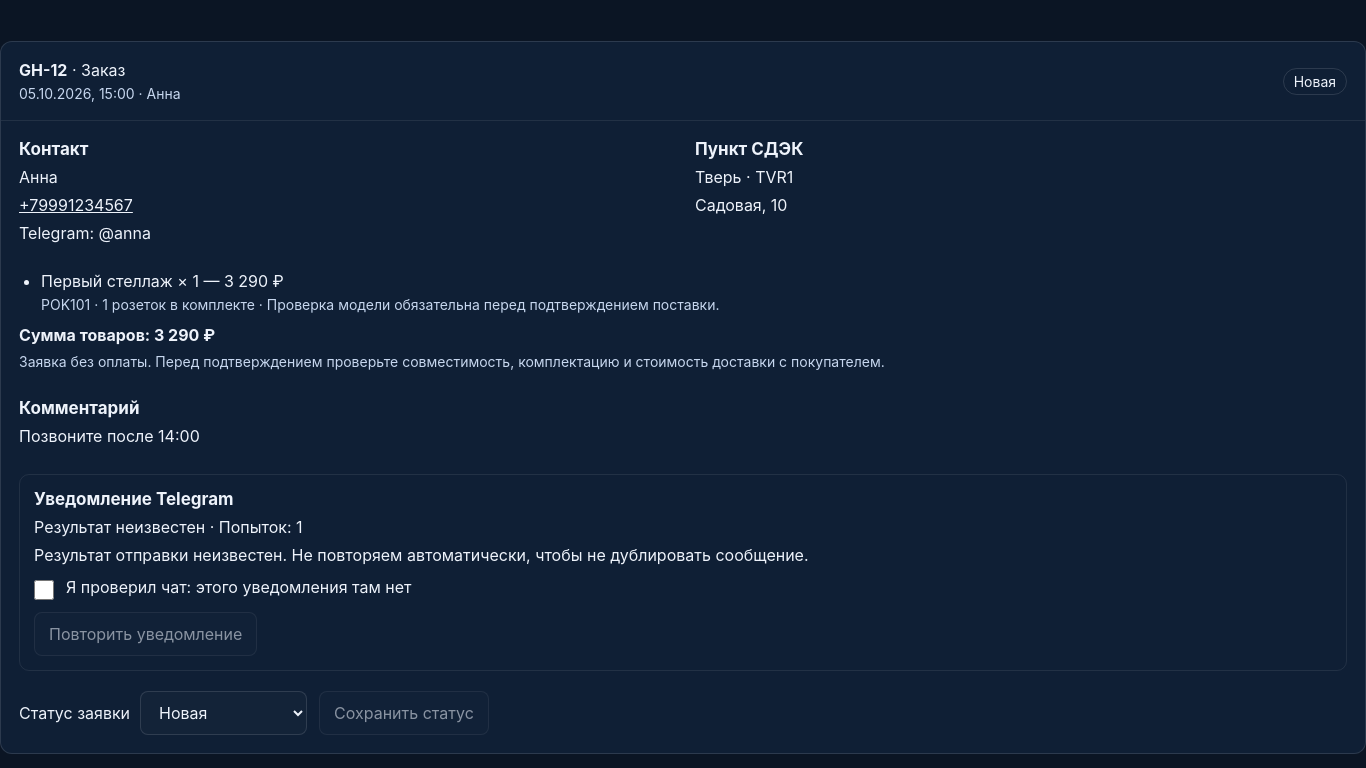
Scenario: Admin shop requests › raskryvaet zajavku iz Telegram i ne predlagaet slepoj povtor uncertain-uvedomleniya
The width and height of the screenshot is (1366, 768).
(page scrolled)
Check: the text "GH-12" is shown, box [19, 60, 67, 80]
Check: the button "Повторить уведомление" is disabled, box [34, 612, 257, 656]
Select "В работе" in the dropdown labelled "Статус заявки" at (224, 713), box [140, 691, 307, 735]
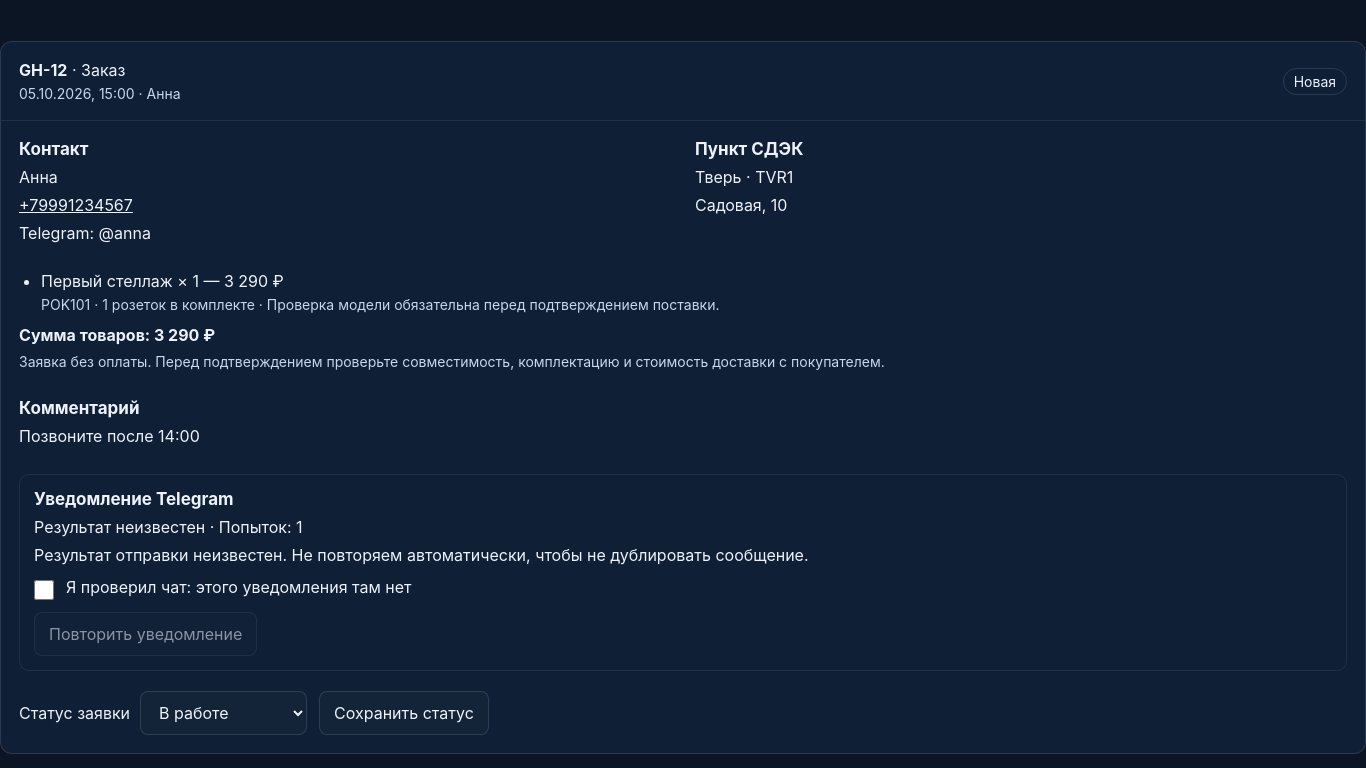
Click the button "Сохранить статус" at (404, 713), box [319, 691, 489, 735]
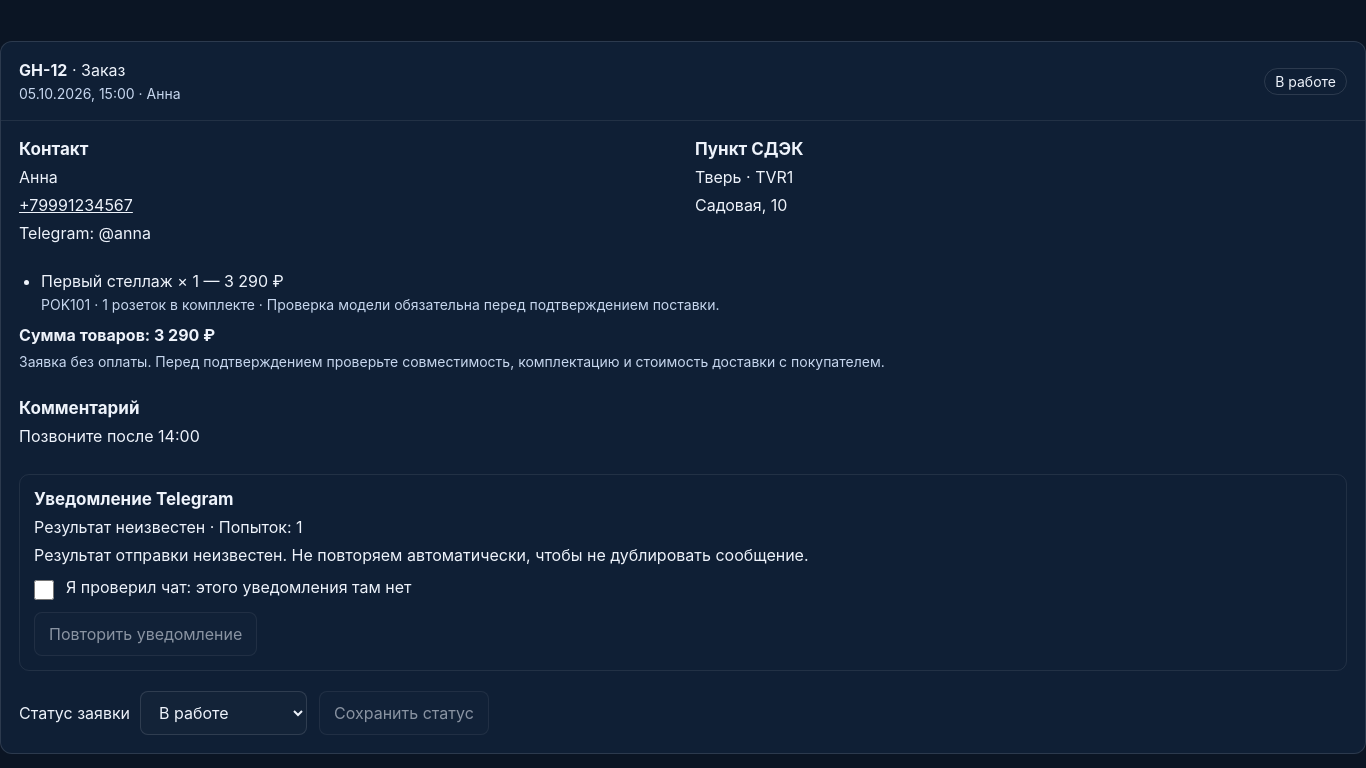
Check: the button "Сохранить статус" is disabled, box [319, 691, 489, 735]
